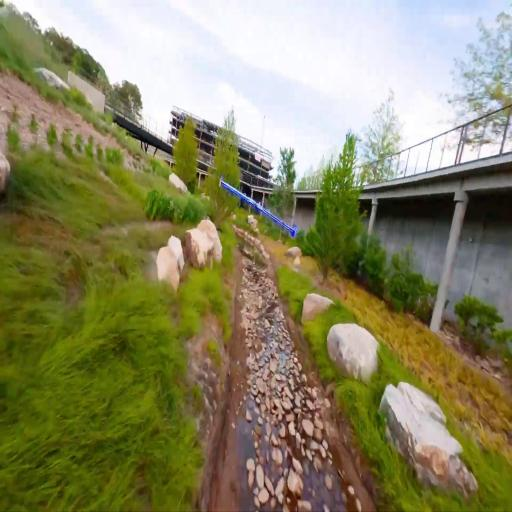uav: (216, 166, 299, 249)
